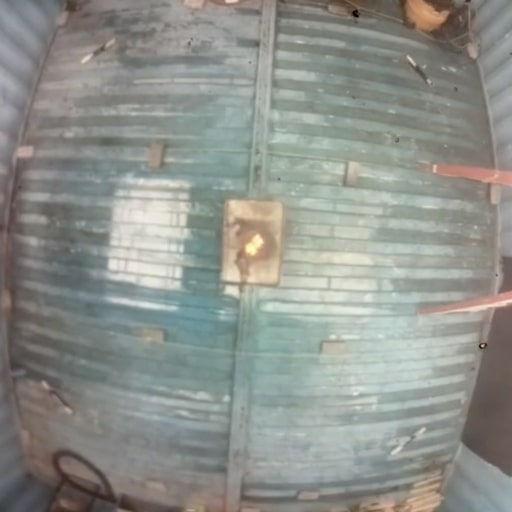Fire: (243, 232, 265, 254)
